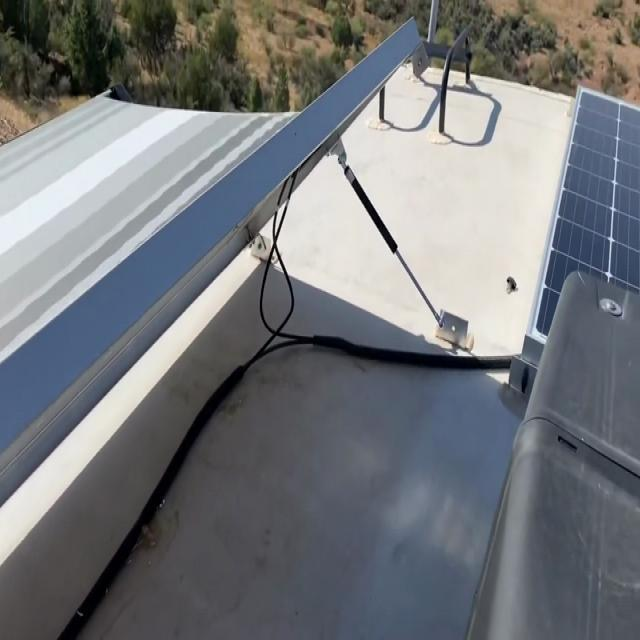Normal Solar Panel: (529, 83, 640, 338)
